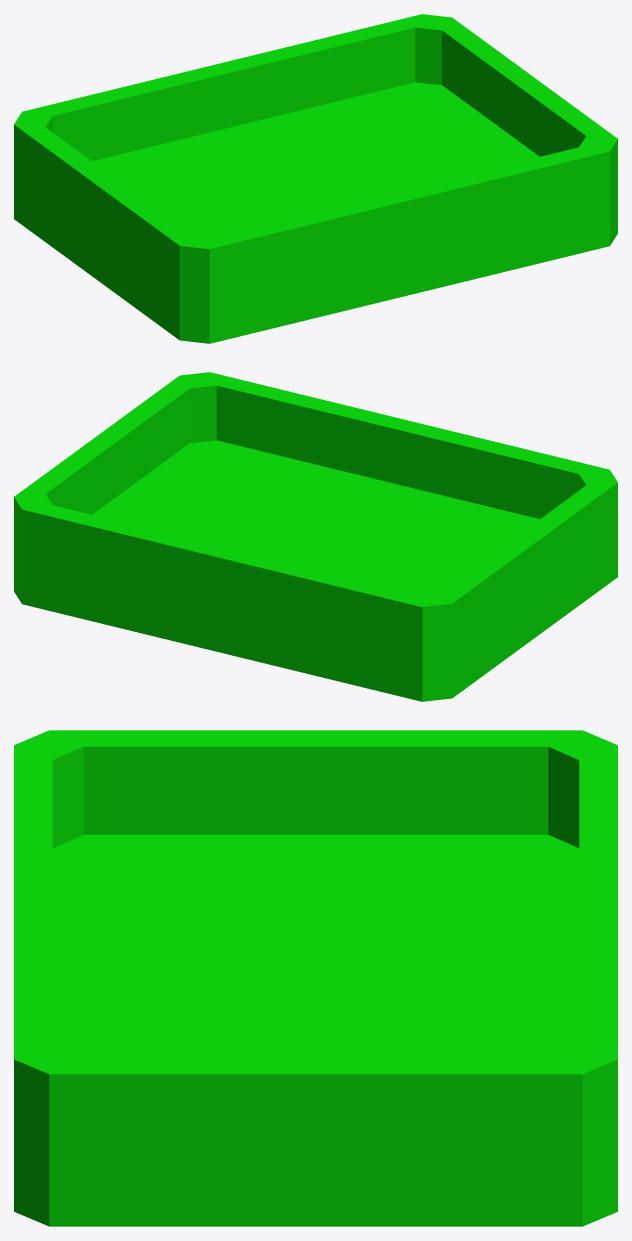
File: Arenero.fbx
The picture shows the model from 3 angles, top to bottom: view 1: azimuth 30°, elevation 25°; view 2: azimuth 150°, elevation 25°; view 3: azimuth 270°, elevation 25°; orthographic projection. The views are drawn at different scales.
Visible parts, largest first — view 1: pCube258; view 2: pCube258; view 3: pCube258.
Boxes of the visible parts, bbox=[...] form: pCube258: bbox=[14, 14, 617, 343]; pCube258: bbox=[14, 372, 617, 701]; pCube258: bbox=[14, 730, 617, 1226].
Bounding box in the file's own units: 0.775 × 0.16 × 0.575.
